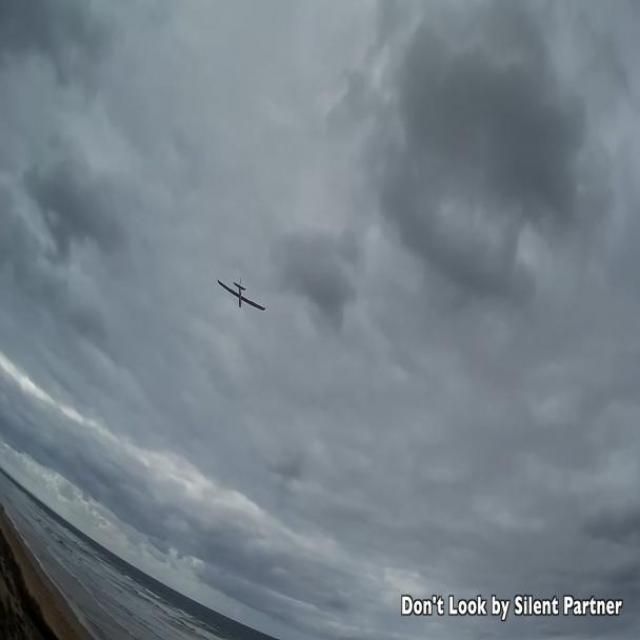iha: (212, 270, 268, 322)
